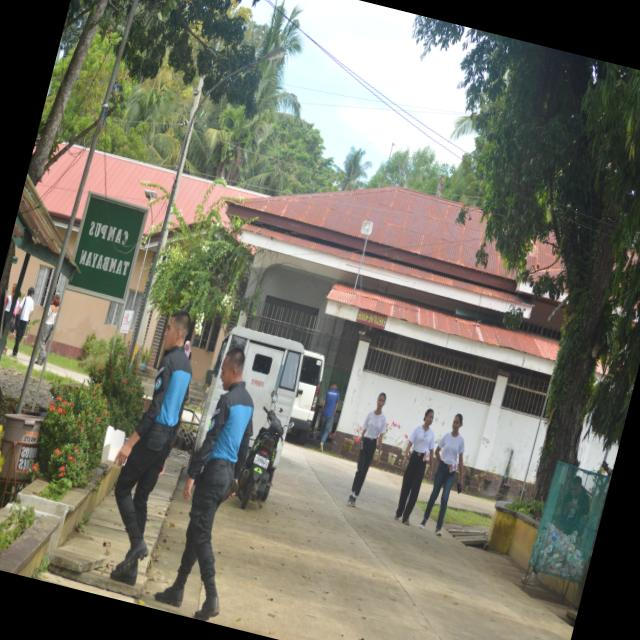person: (155, 348, 252, 620), (110, 310, 191, 585), (418, 414, 463, 535), (394, 409, 433, 525), (346, 393, 385, 506), (35, 294, 59, 365), (11, 287, 33, 356), (318, 382, 338, 451)
